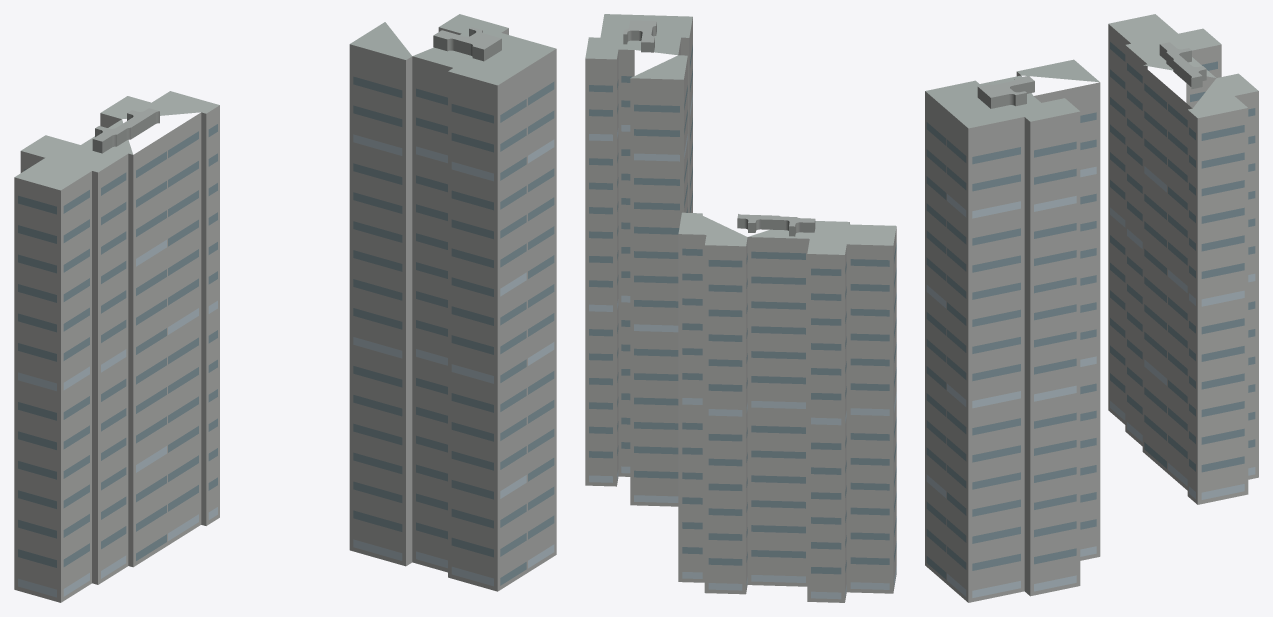
File: apt-a13550802.glb
3 views of the same model, side by side, from view 1: azimuth 30°, elevation 25°; view 2: azimuth 150°, elevation 25°; view 3: azimuth 270°, elevation 25° (orthographic). The views are drawn at different scales.
Parts seen in each view (by area): view 1: apt-a13550802; view 2: apt-a13550802; view 3: apt-a13550802.
Part boxes in pixels (x1,y1,x2,y2): apt-a13550802: (14, 14, 556, 602); apt-a13550802: (585, 14, 896, 602); apt-a13550802: (925, 14, 1258, 602).
Size of the model in its own units: 93.84 by 105 by 65.39.
